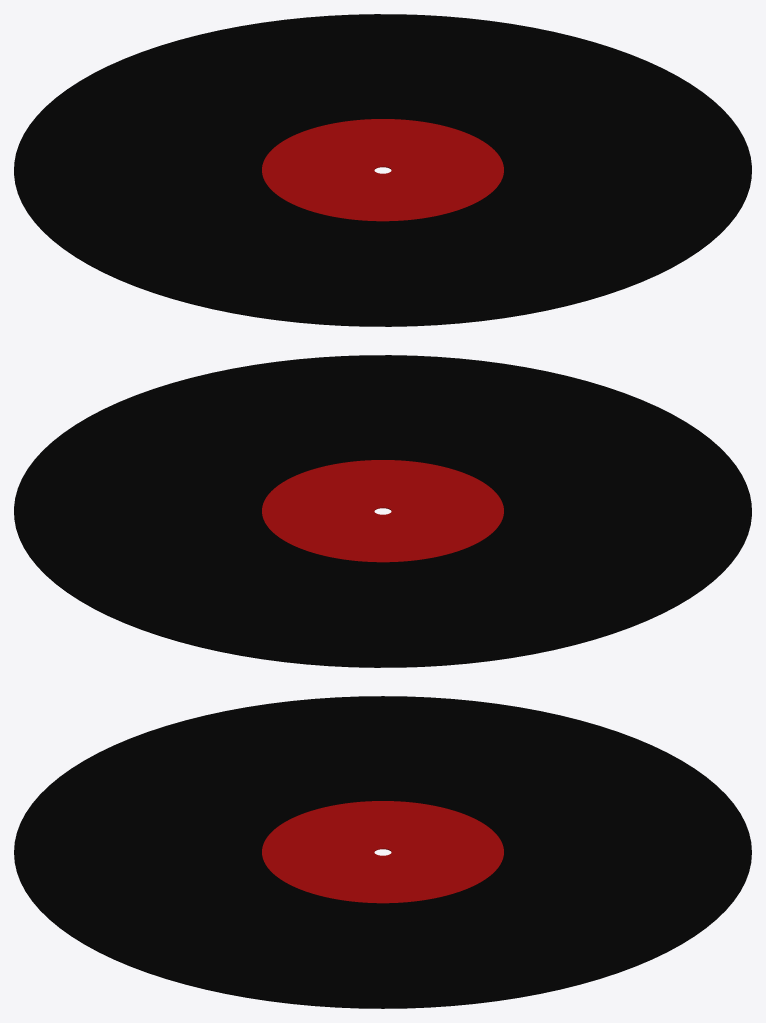
Rendered from 12 Inch Vinyl.fbx.
3 renders of one model, top to bottom at view 1: azimuth 30°, elevation 25°; view 2: azimuth 150°, elevation 25°; view 3: azimuth 270°, elevation 25°, orthographic.
Visible parts, largest first — view 1: Outer, Inner; view 2: Outer, Inner; view 3: Outer, Inner.
Part boxes in pixels (<box>): Outer: <box>14,14,751,326</box>; Inner: <box>262,119,503,221</box>; Outer: <box>14,355,751,667</box>; Inner: <box>262,460,503,562</box>; Outer: <box>14,696,751,1008</box>; Inner: <box>262,801,503,903</box>.
Size of the model in its own units: 60.96 by 0.075 by 60.96.
